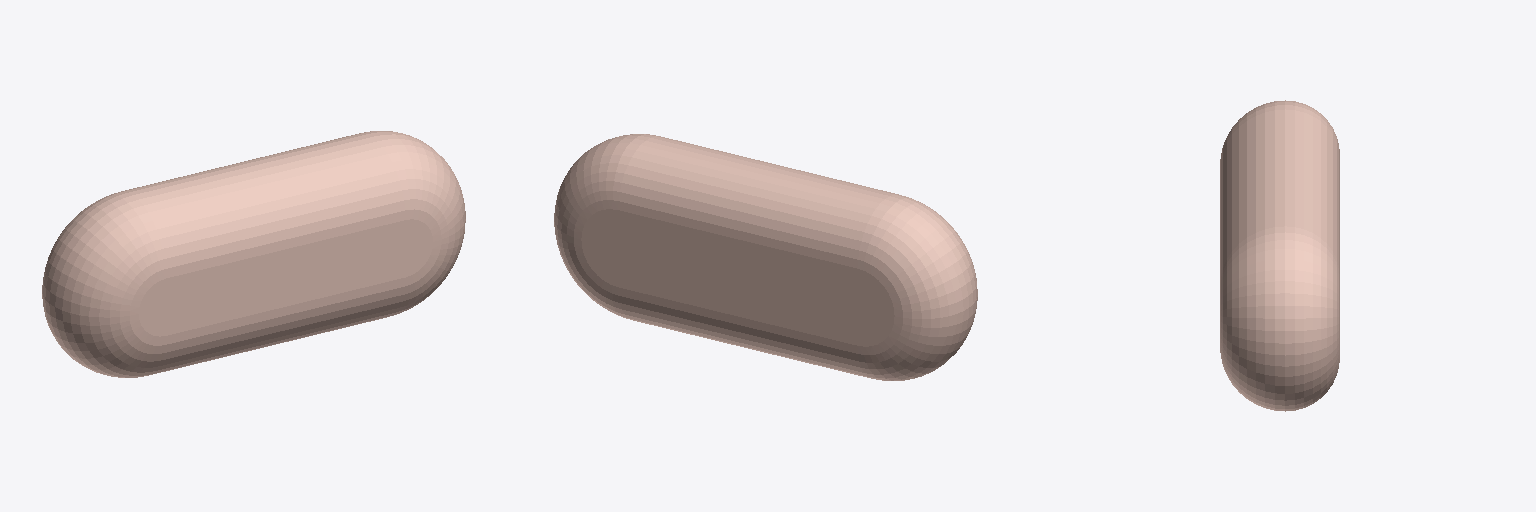
File: body1_visual.obj
3 views of the same model, side by side, from view 1: azimuth 30°, elevation 25°; view 2: azimuth 150°, elevation 25°; view 3: azimuth 270°, elevation 25° (orthographic).
Parts seen in each view (by area): view 1: Body1; view 2: Body1; view 3: Body1.
Boxes of the visible parts, x1=… form: Body1: x1=42, y1=131, x2=465, y2=377; Body1: x1=554, y1=134, x2=977, y2=380; Body1: x1=1220, y1=100, x2=1339, y2=411.
Size of the model in its own units: 64.7 by 26.7 by 16.5.